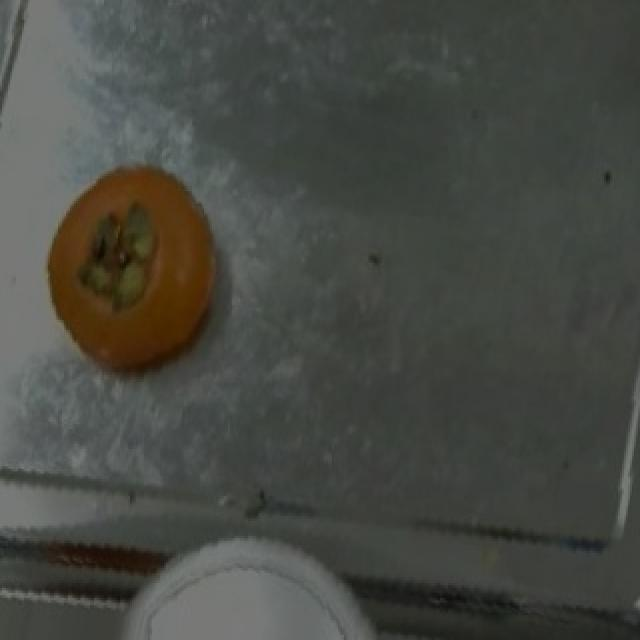Fruit: (18, 146, 242, 392), (124, 518, 362, 640)
